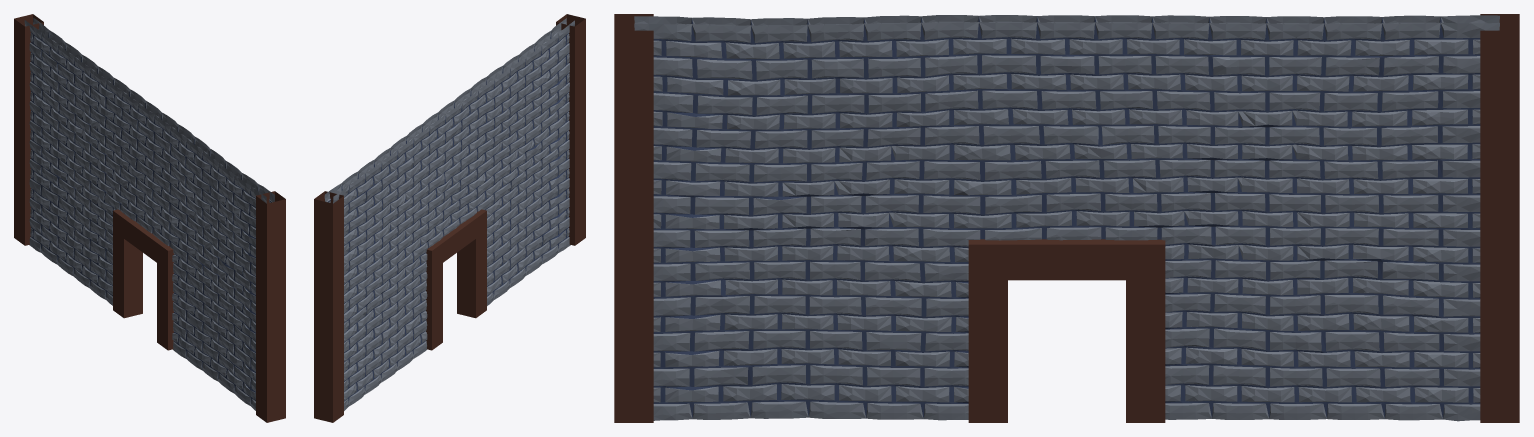
File: Wall_Door.fbx
The picture shows the model from 3 angles, left to right: view 1: azimuth 30°, elevation 25°; view 2: azimuth 150°, elevation 25°; view 3: azimuth 270°, elevation 25°; orthographic projection. The views are drawn at different scales.
Parts seen in each view (by area): view 1: Wall_Door_Final1; view 2: Wall_Door_Final1; view 3: Wall_Door_Final1.
Boxes of the visible parts, bbox=[...] form: Wall_Door_Final1: bbox=[14, 14, 285, 422]; Wall_Door_Final1: bbox=[314, 14, 585, 422]; Wall_Door_Final1: bbox=[614, 14, 1519, 422].
Size of the model in its own units: 2 by 22.36 by 46.
